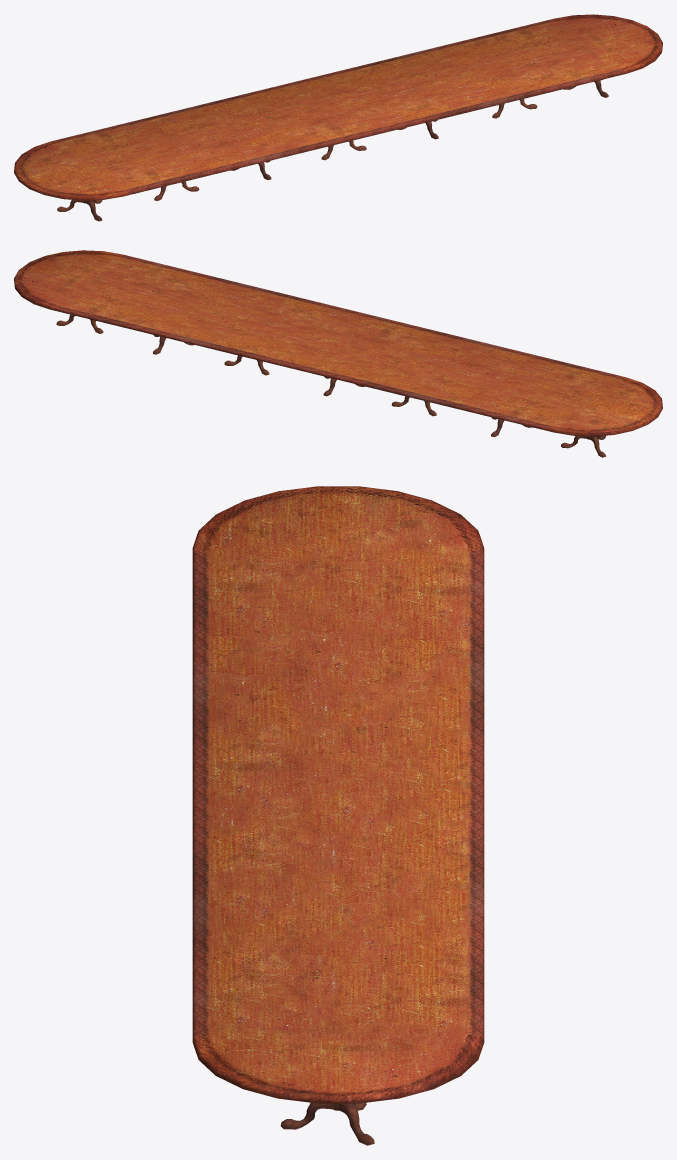
File: table_nice_round_large.DAE
3 renders of one model, top to bottom at view 1: azimuth 30°, elevation 25°; view 2: azimuth 150°, elevation 25°; view 3: azimuth 270°, elevation 25°, orthographic. The views are drawn at different scales.
Parts seen in each view (by area): view 1: Cylinder006, table_nice_round_mesh001; view 2: Cylinder006, table_nice_round_mesh001; view 3: Cylinder006, table_nice_round_mesh001.
Part boxes in pixels (x1,y1,x2,y2): Cylinder006: [14, 14, 662, 200]; table_nice_round_mesh001: [57, 79, 608, 221]; Cylinder006: [14, 250, 662, 436]; table_nice_round_mesh001: [56, 314, 605, 457]; Cylinder006: [192, 486, 484, 1103]; table_nice_round_mesh001: [280, 1102, 374, 1145].
Size of the model in its own units: 15.03 by 0.9899 by 3.02.
